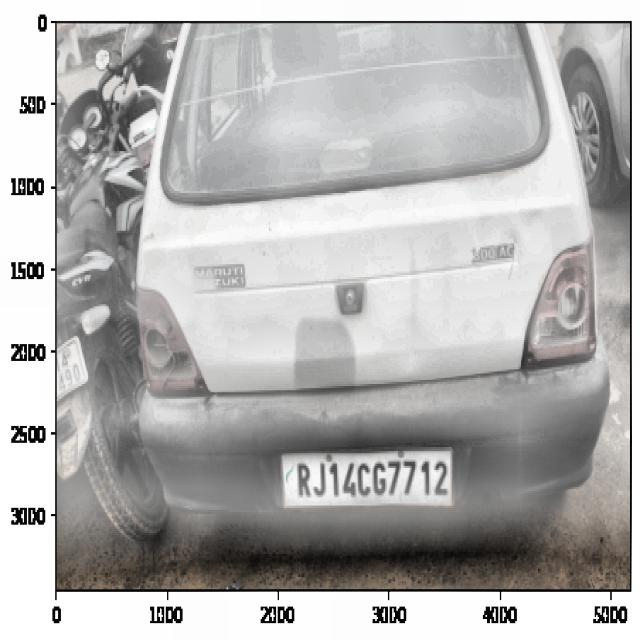license_plate: (282, 447, 453, 511)
